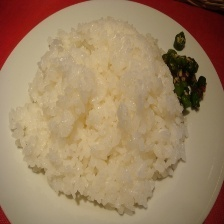sabzi: (163, 28, 205, 111)
